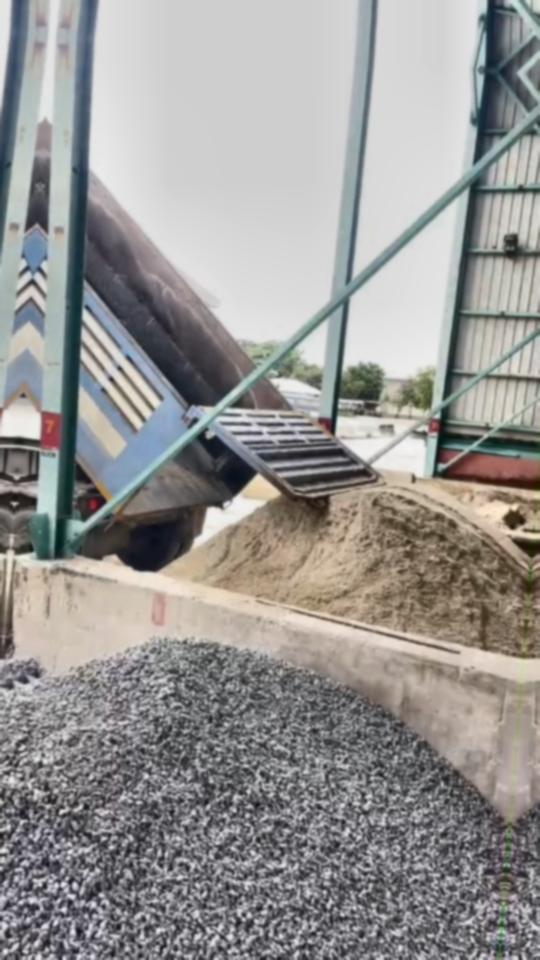gravel: (0, 639, 504, 960), (0, 659, 41, 688)
sand: (166, 483, 531, 654), (456, 490, 533, 532)
